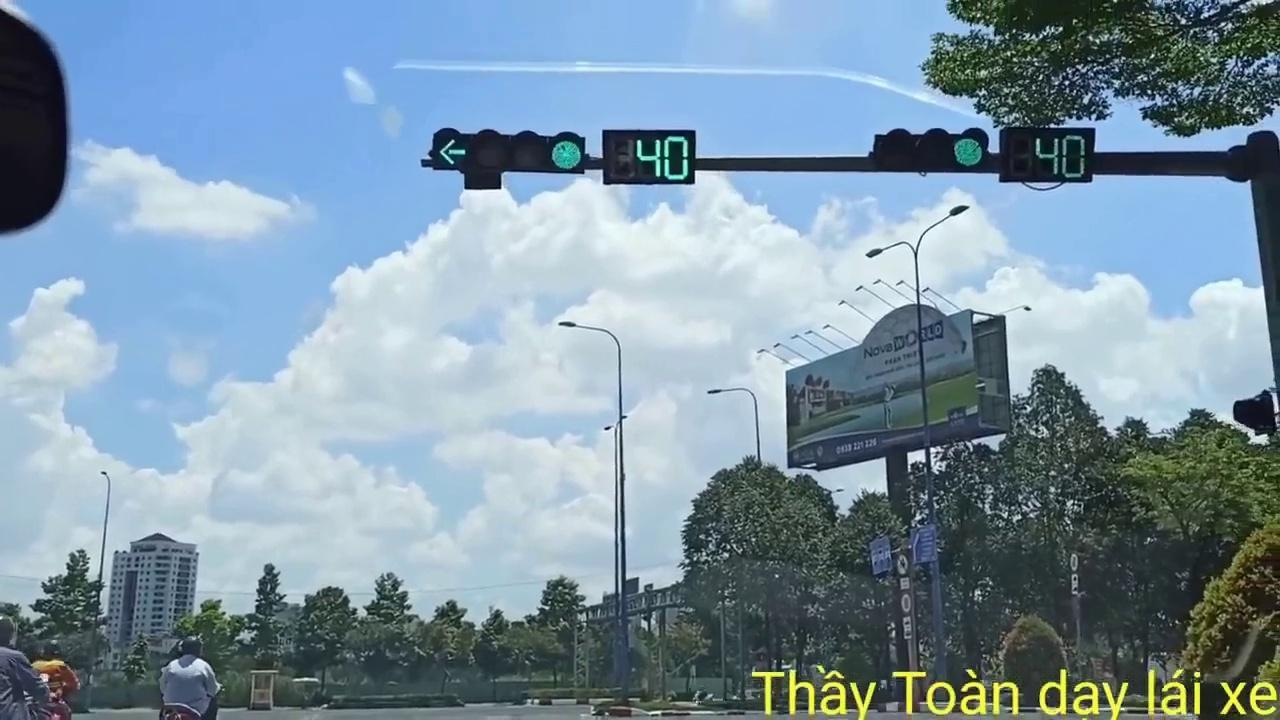Biển phụ: (902, 615, 913, 640), (1069, 573, 1078, 595)
Chỉ hướng đường: (910, 526, 939, 564)
Cấm xe máy: (895, 554, 911, 576)
Làn đường cho từng xe: (868, 535, 893, 576)
